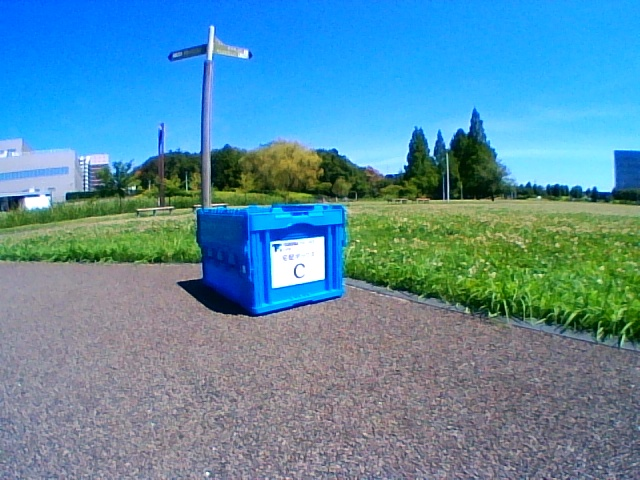blue_box: (197, 205, 344, 315)
tag_c: (274, 243, 319, 281)
